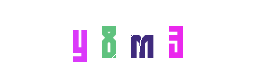3: (102, 0, 182, 80)
8: (87, 0, 167, 80)
M: (95, 0, 175, 80)
Y: (70, 0, 150, 80)
